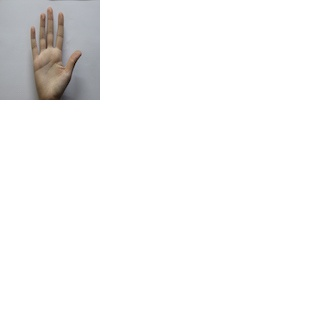paper: (22, 7, 85, 98)
